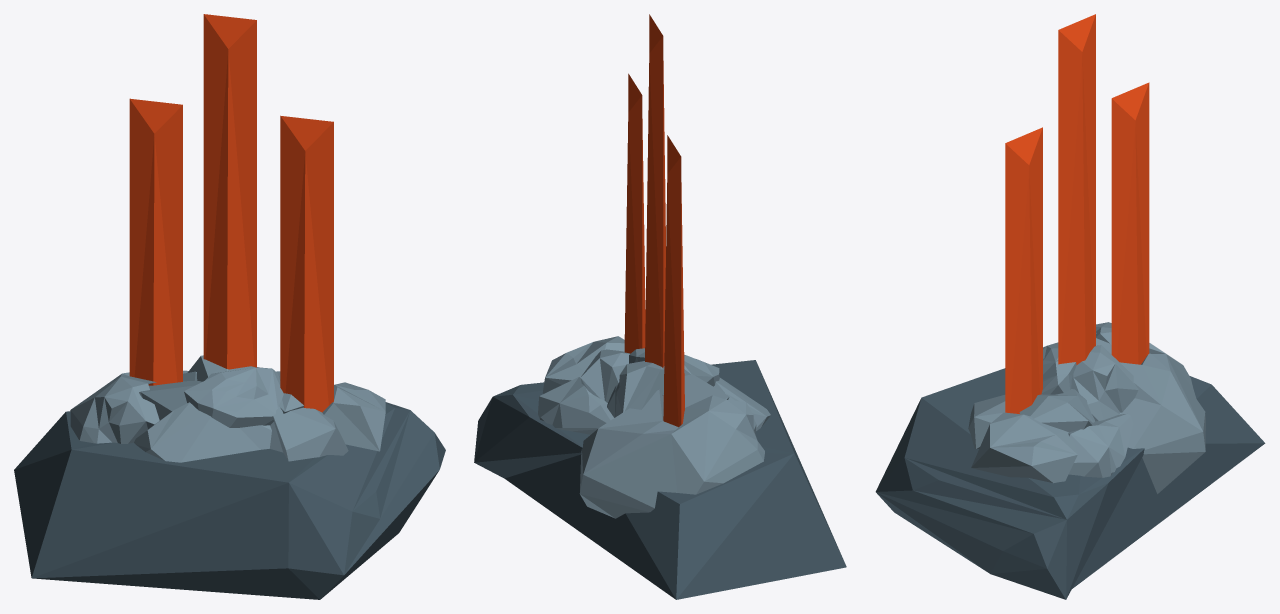
File: ancient_shrine.glb
3 views of the same model, side by side, from view 1: azimuth 30°, elevation 25°; view 2: azimuth 150°, elevation 25°; view 3: azimuth 270°, elevation 25° (orthographic). The views are drawn at different scales.
Visible parts, largest first — view 1: Node; view 2: Node; view 3: Node.
Boxes of the visible parts, <box> form: Node: <box>14,14,445,599</box>; Node: <box>474,14,846,599</box>; Node: <box>875,14,1265,599</box>.
Size of the model in its own units: 1.29 by 1.59 by 1.14.
